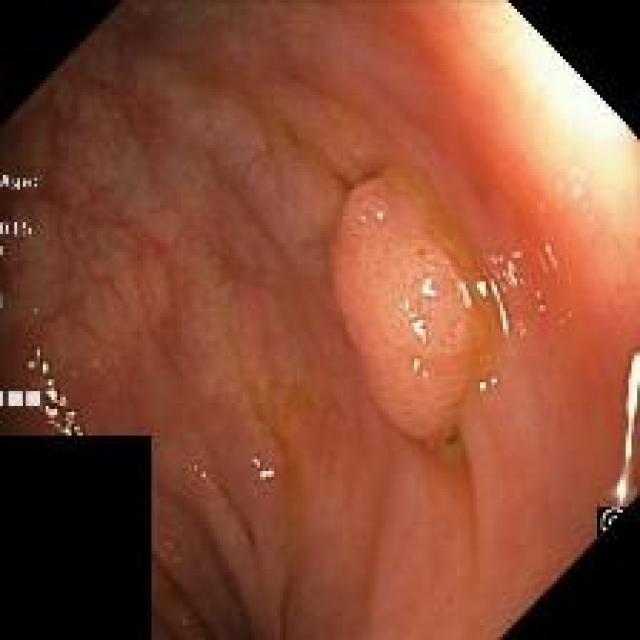Polyps: (332, 180, 474, 443)
